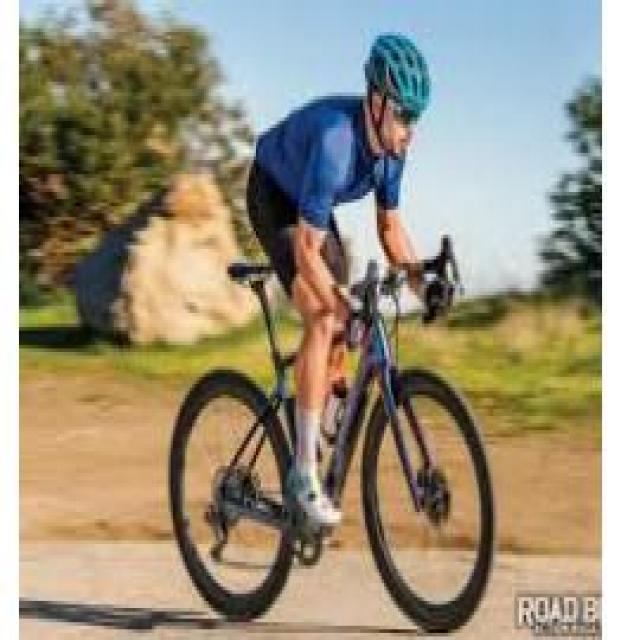bicycle: (167, 257, 492, 627)
